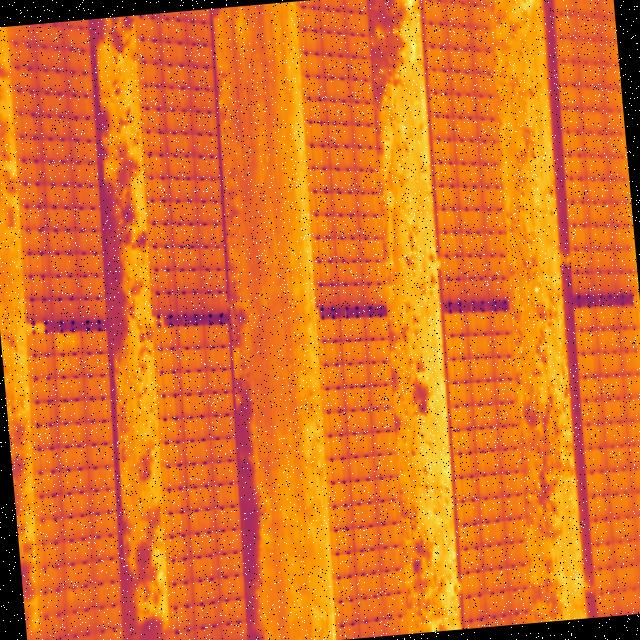Hotspot: (54, 330, 82, 353), (57, 356, 77, 374)
